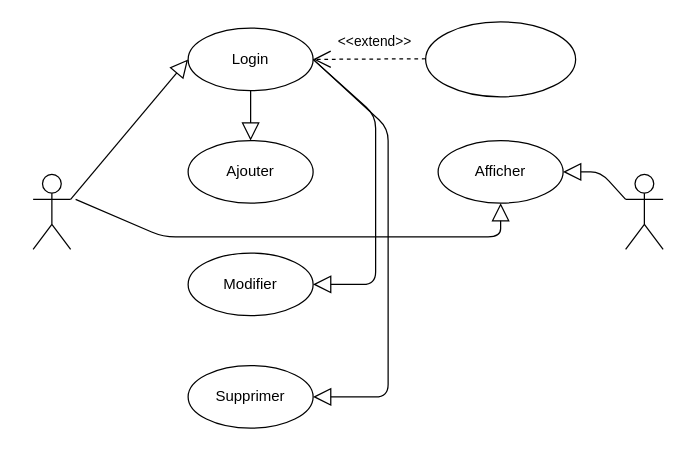
This 690x450 diagram has some shape labels left out. Here are the shapes that lost their labels. From the top down, the centre of each, then its label:
At point (500, 59): "Vérification de l'email et mot de passe".
At point (51, 211): "Blogueur".
At point (643, 211): "Visiteur".
